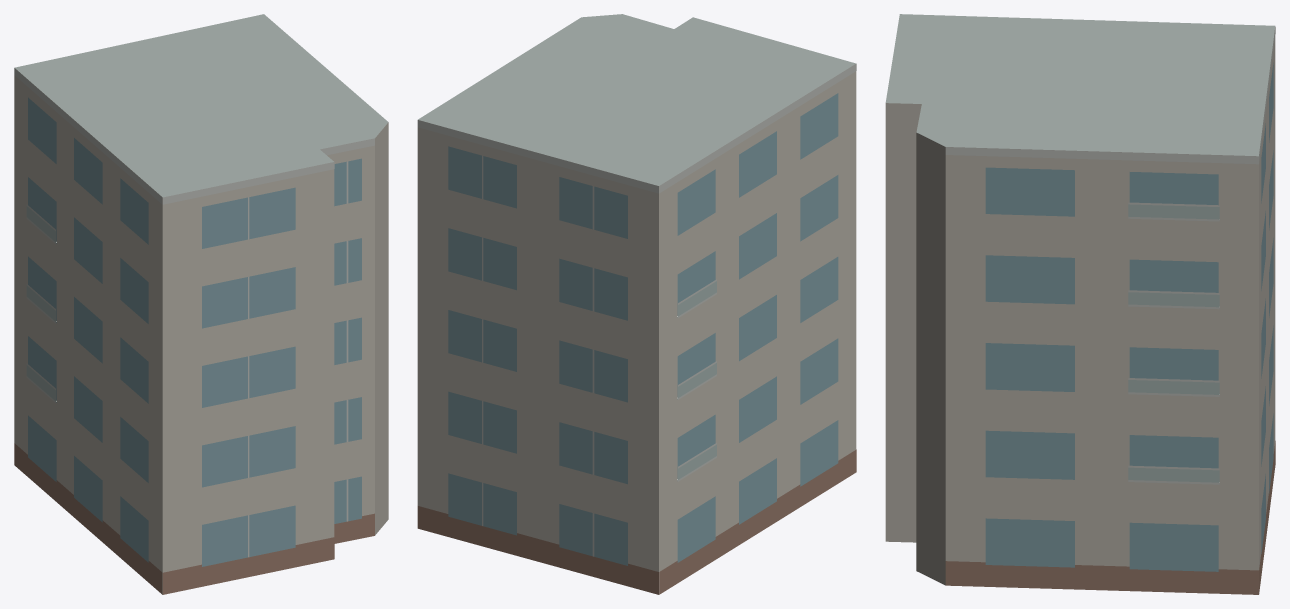
The model's file is survey-upis-33010653.glb.
3 renders of one model, left to right at view 1: azimuth 30°, elevation 25°; view 2: azimuth 150°, elevation 25°; view 3: azimuth 270°, elevation 25°, orthographic. The views are drawn at different scales.
Parts seen in each view (by area): view 1: survey-upis-33010653.tmp; view 2: survey-upis-33010653.tmp; view 3: survey-upis-33010653.tmp.
Part boxes in pixels (x1,y1,x2,y2): survey-upis-33010653.tmp: (14, 14, 388, 594); survey-upis-33010653.tmp: (417, 14, 856, 594); survey-upis-33010653.tmp: (885, 14, 1275, 594).
Bounding box in the file's own units: 9.25 × 13.3 × 10.72.
